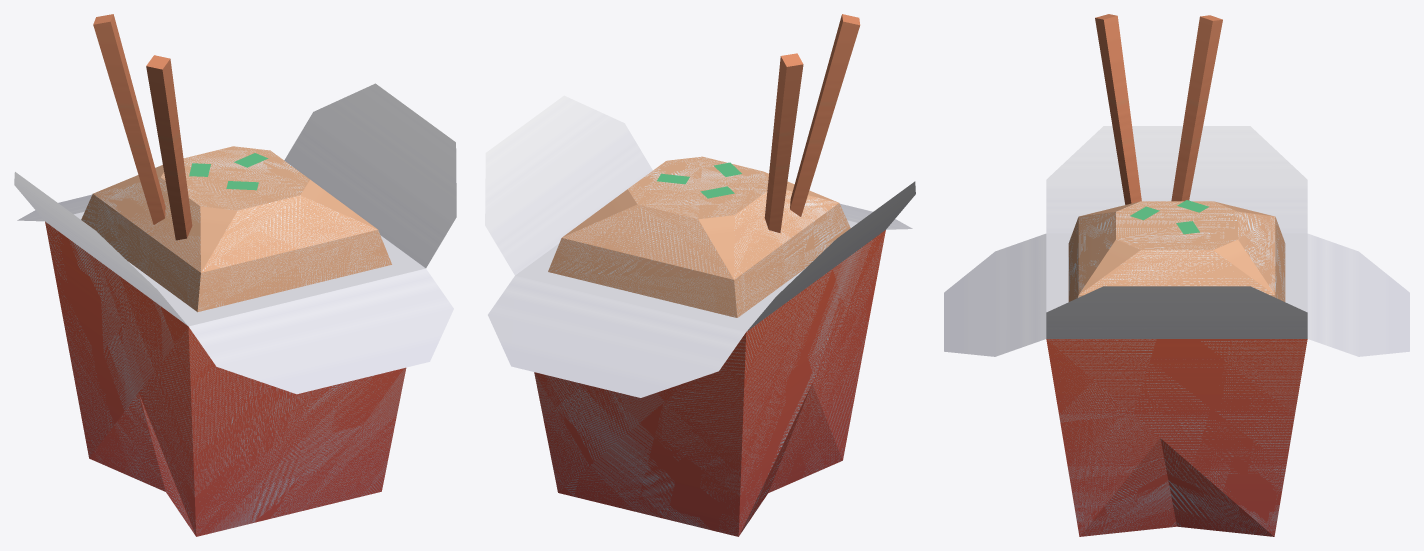
Rendered from NoodleBox.obj.
3 renders of one model, left to right at view 1: azimuth 30°, elevation 25°; view 2: azimuth 150°, elevation 25°; view 3: azimuth 270°, elevation 25°, orthographic. The views are drawn at different scales.
Visible parts, largest first — view 1: chinese, chopstick, chopstick_1; view 2: chinese, chopstick_1, chopstick; view 3: chinese, chopstick, chopstick_1.
Part boxes in pixels (x1,y1,x2,y2): chinese: (14, 83, 456, 536); chopstick: (93, 14, 165, 224); chopstick_1: (146, 55, 192, 240); chinese: (485, 95, 915, 536); chopstick_1: (790, 14, 860, 216); chopstick: (764, 53, 803, 232); chinese: (944, 126, 1409, 536); chopstick: (1171, 15, 1222, 201); chopstick_1: (1095, 14, 1141, 204).
Bounding box in the file's own units: 0.1588 × 0.1985 × 0.1951.
Materials: 1 (1 with a texture image).
